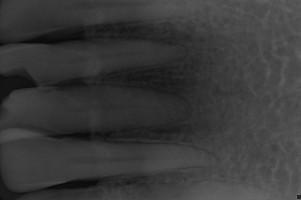Furcation Involvement: (98, 25, 233, 95), (150, 123, 194, 134)
